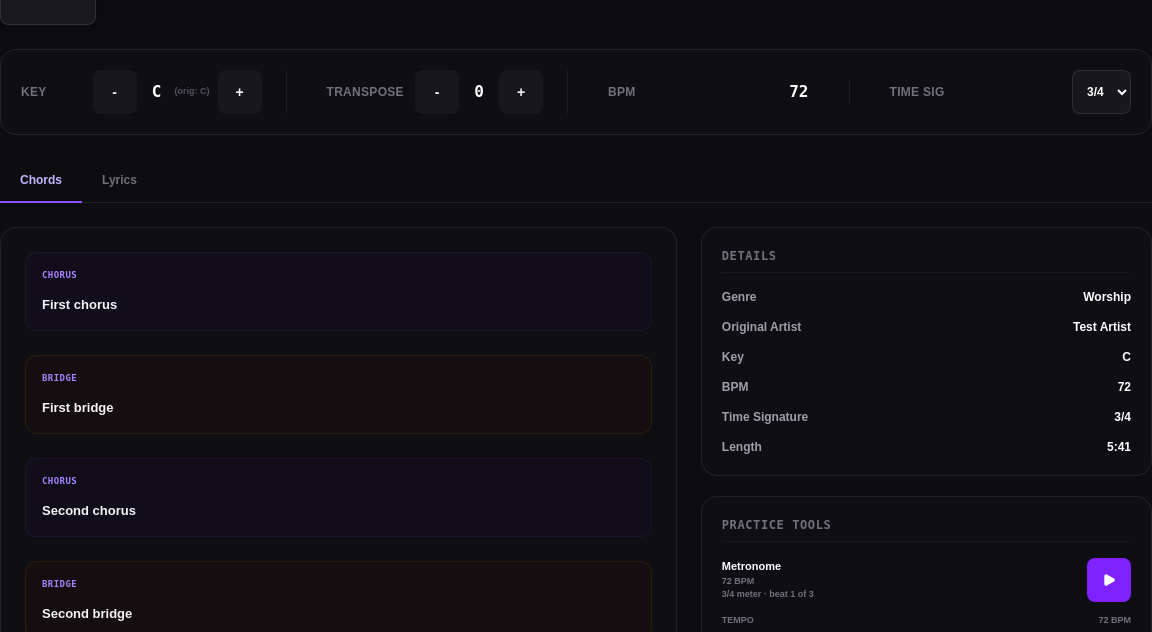
Test case: SongViewer › cycles the metronome beat count and clears both practice timers on unmount
Click the button named "Start metronome": point(1109, 580) [1087,558,1131,602]
(page scrolled)
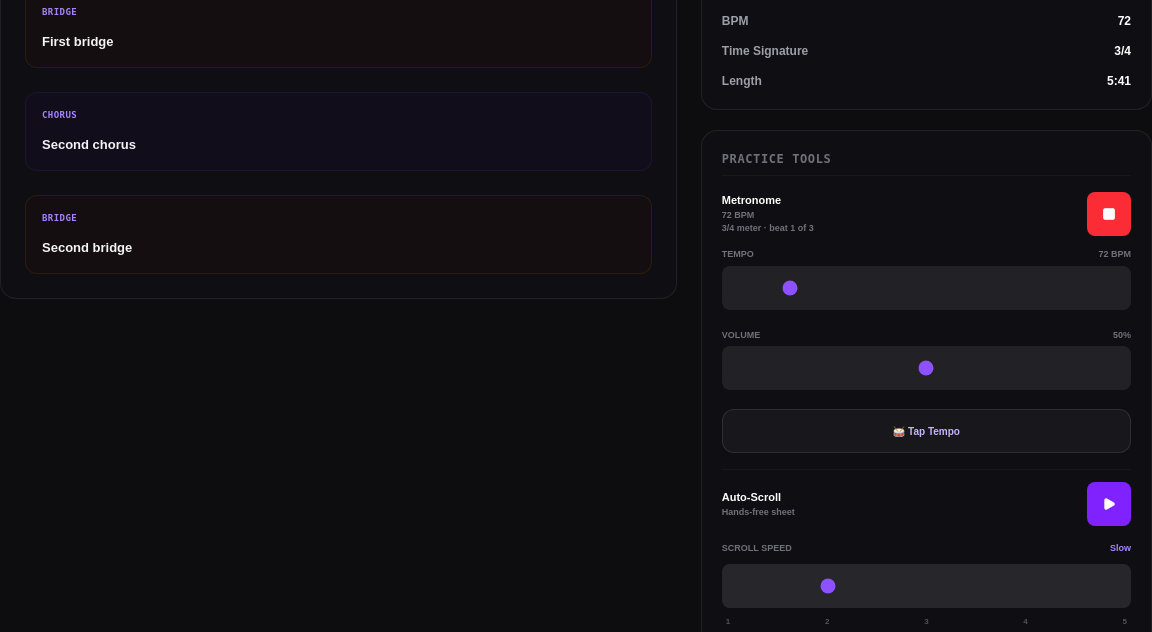
Click the button named "Start auto-scroll": point(1109, 504) [1087,482,1131,526]
Wait 2501 ms
(page scrolled)
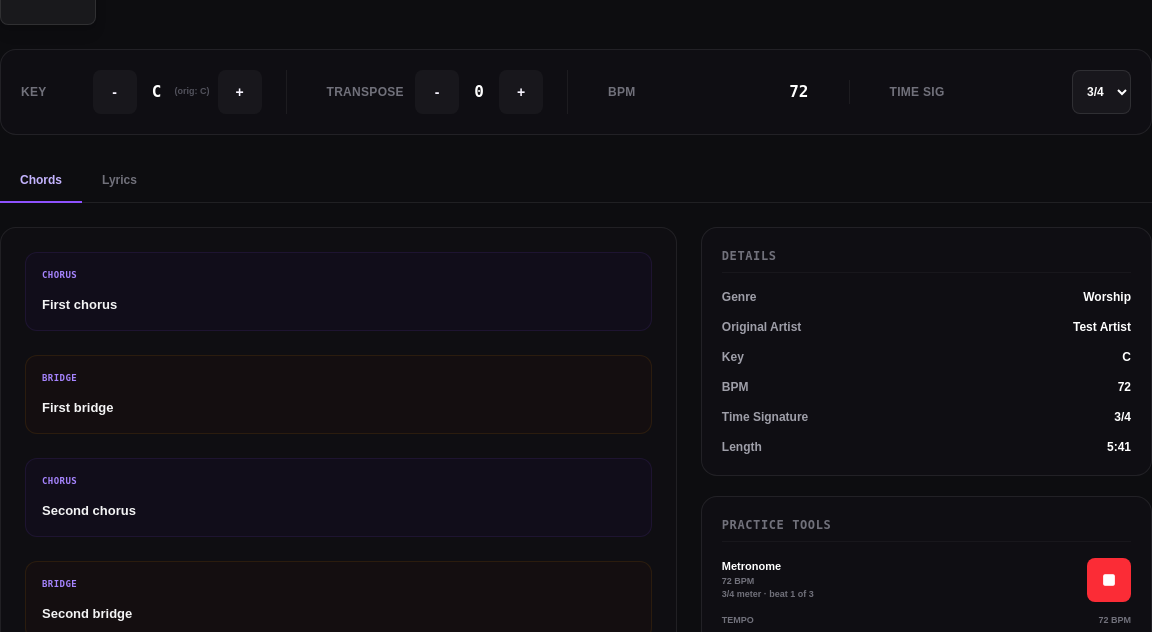
Expected: the text "3/4 meter · beat 1 of 3" is shown, [722,588,814,602]
Select "6/8" in the dropdown named "Practice time signature": point(1102, 92) [1072,70,1131,114]
Wait 5001 ms
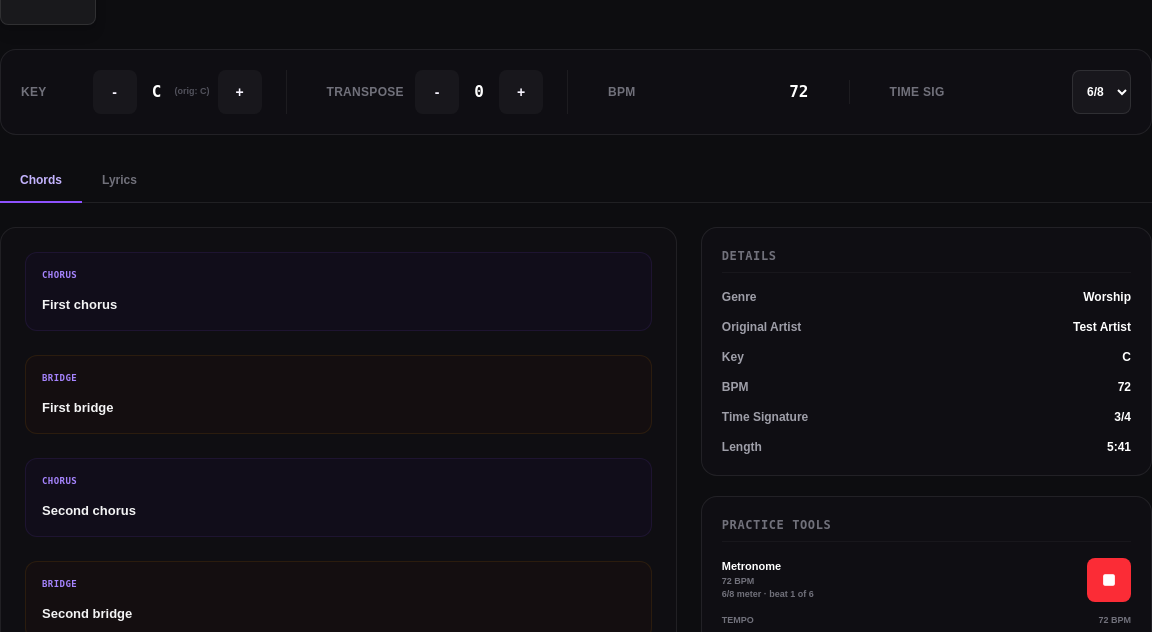
Now the text "6/8 meter · beat 1 of 6" is shown, box [722,588,814,602]
